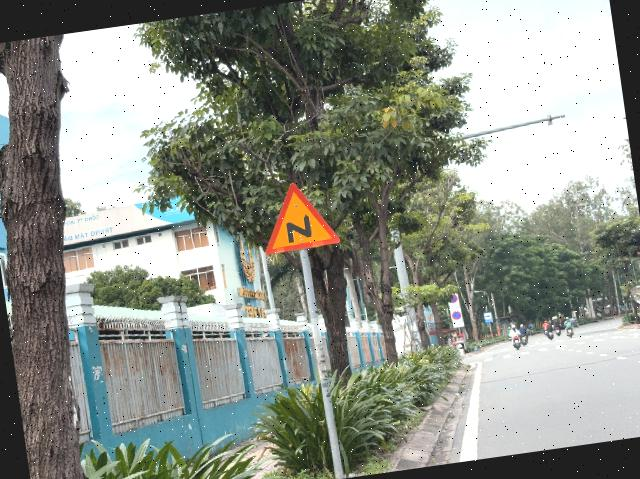nhieu-cho-ngoat-nguy-hiem-lien-tiep: (256, 177, 342, 255)
